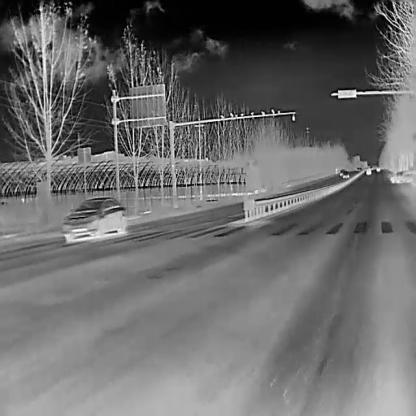car: (61, 195, 127, 242), (388, 168, 412, 183), (340, 169, 348, 178), (338, 167, 344, 176), (364, 166, 370, 174), (375, 165, 380, 171), (355, 166, 359, 170)
